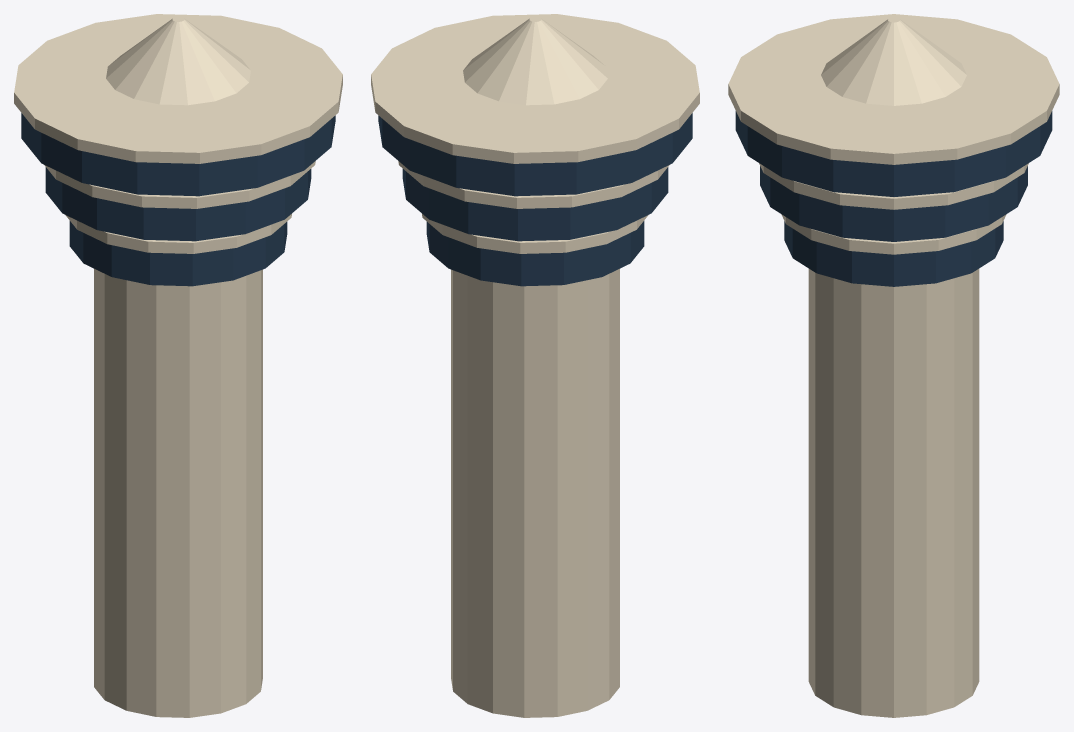
File: torre-sakhir.glb
3 views of the same model, side by side, from view 1: azimuth 30°, elevation 25°; view 2: azimuth 150°, elevation 25°; view 3: azimuth 270°, elevation 25° (orthographic).
Visible parts, largest first — view 1: torre-sakhir; view 2: torre-sakhir; view 3: torre-sakhir.
Part boxes in pixels (box(x1,y1,x2,y2)): torre-sakhir: box(14, 14, 342, 717); torre-sakhir: box(371, 14, 699, 717); torre-sakhir: box(728, 14, 1059, 717).
Size of the model in its own units: 27.2 by 60 by 27.2.
